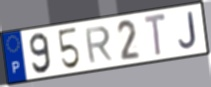2: (116, 18, 142, 61)
5: (56, 26, 80, 71)
9: (28, 32, 52, 75)
J: (177, 10, 199, 50)
R: (83, 25, 115, 65)
T: (143, 12, 168, 59)
